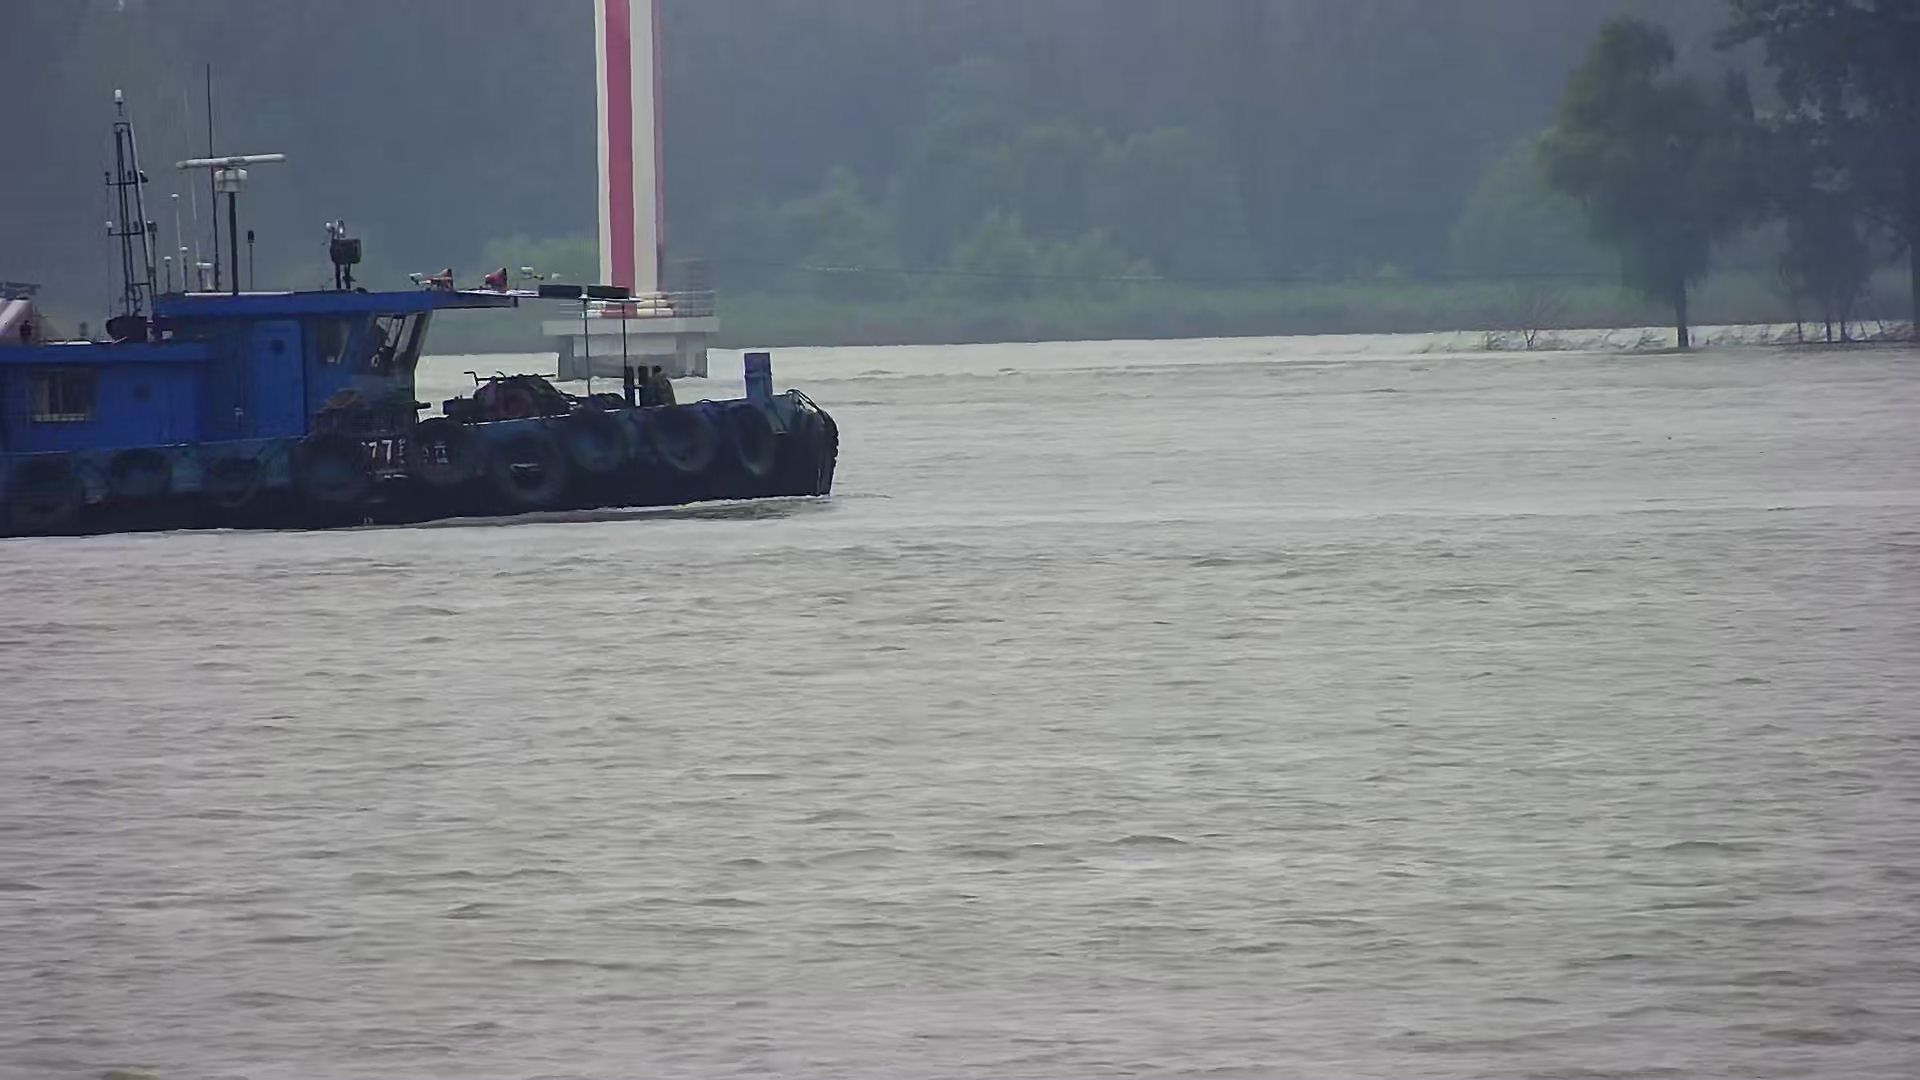platform: (543, 1, 717, 378)
ship: (1, 146, 851, 538)
tree: (1539, 17, 1756, 356), (1726, 3, 1920, 342)
